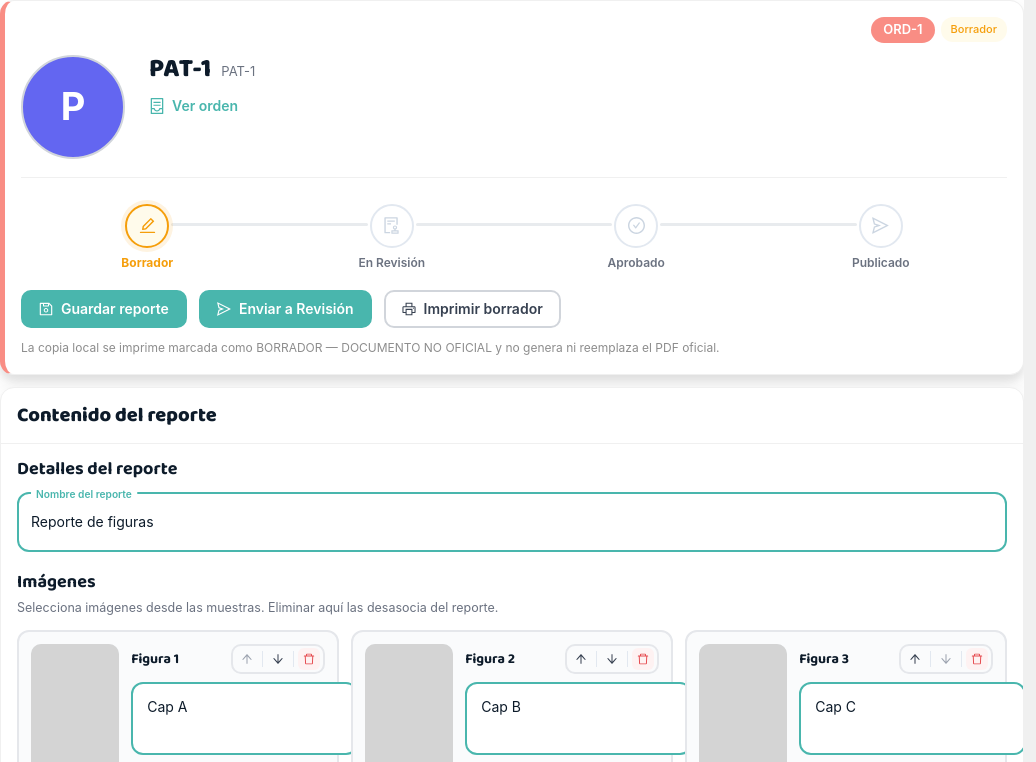
Test: ReportEditor — caption editing (#20) › keeps focus and the caret while typing, deleting and replacing in the middle
Step 1. Click the text box with placeholder "Nota para esta imagen" → (245, 718), box [145,694,344,742]
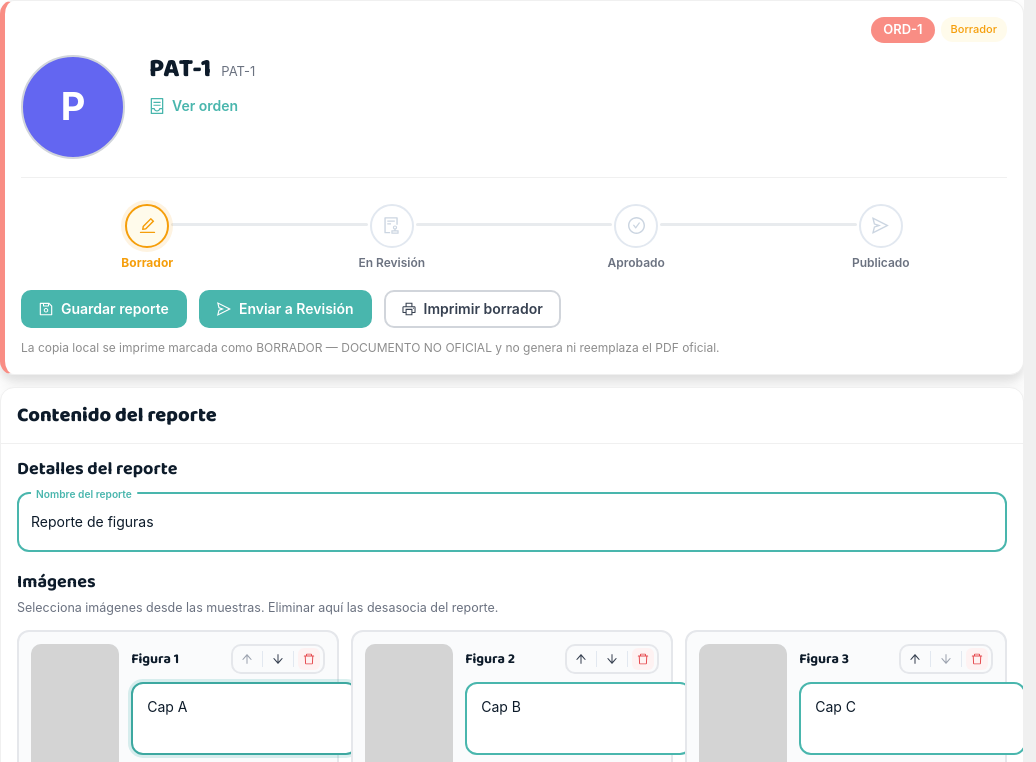
Step 2. Type keys "XY"
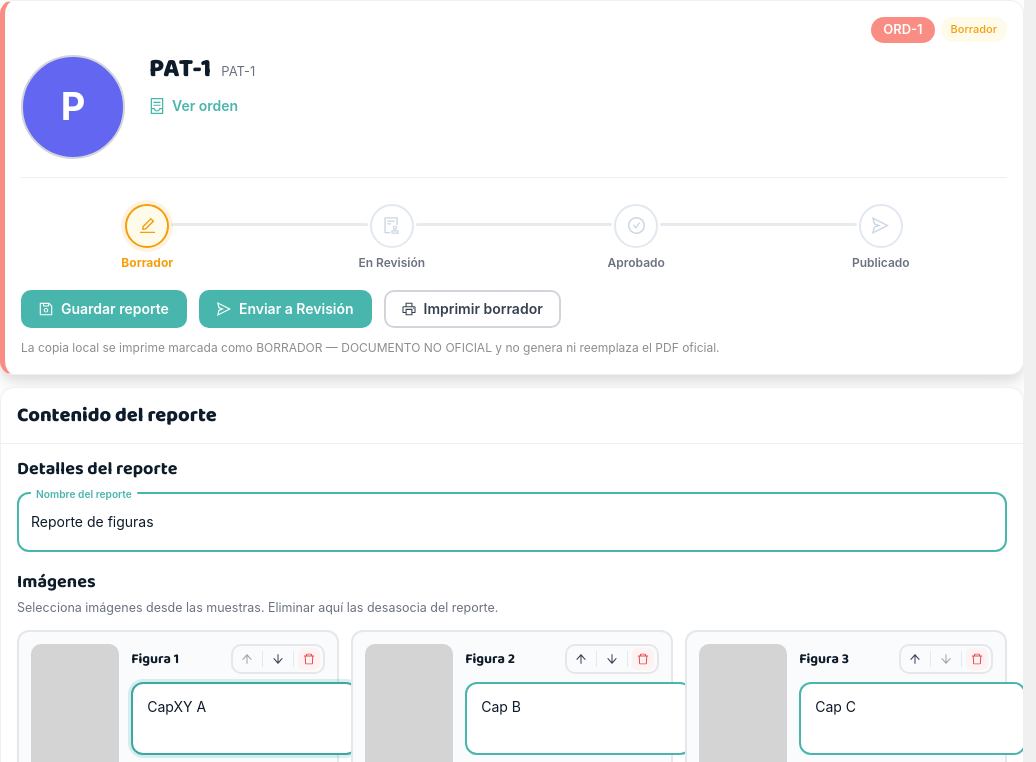
Expected: the text box with placeholder "Nota para esta imagen" holds "CapXY A", [145,694,344,742]
Step 3. Press Backspace
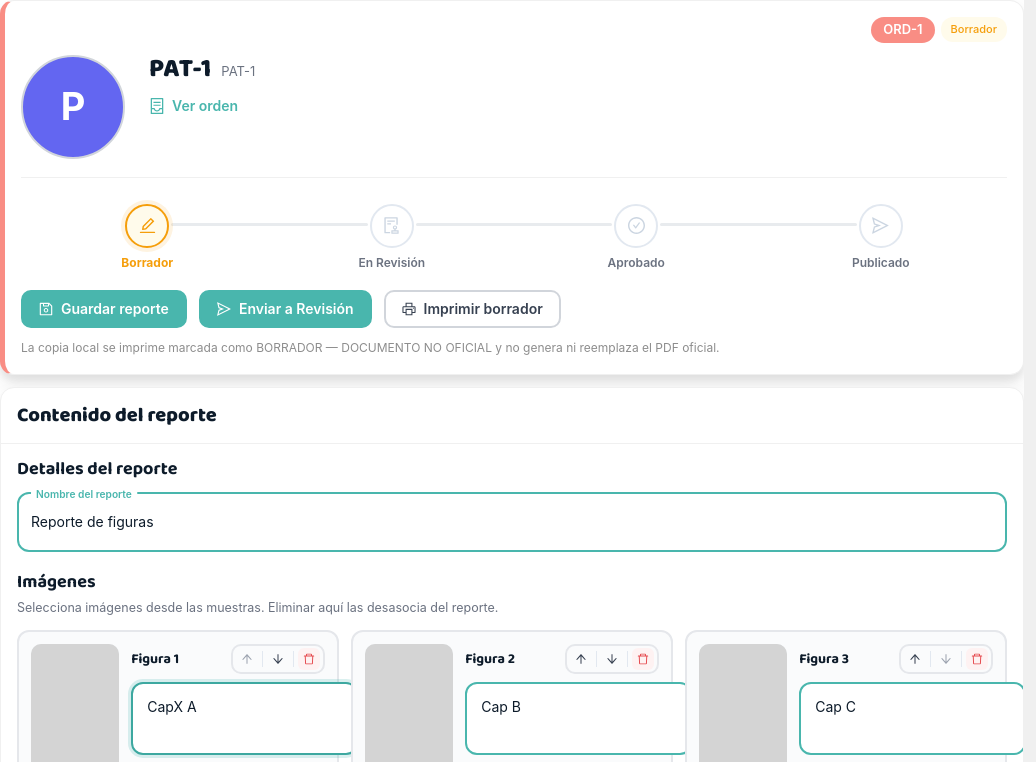
Expected: the text box with placeholder "Nota para esta imagen" holds "CapX A", [145,694,344,742]
Step 4. Press Delete
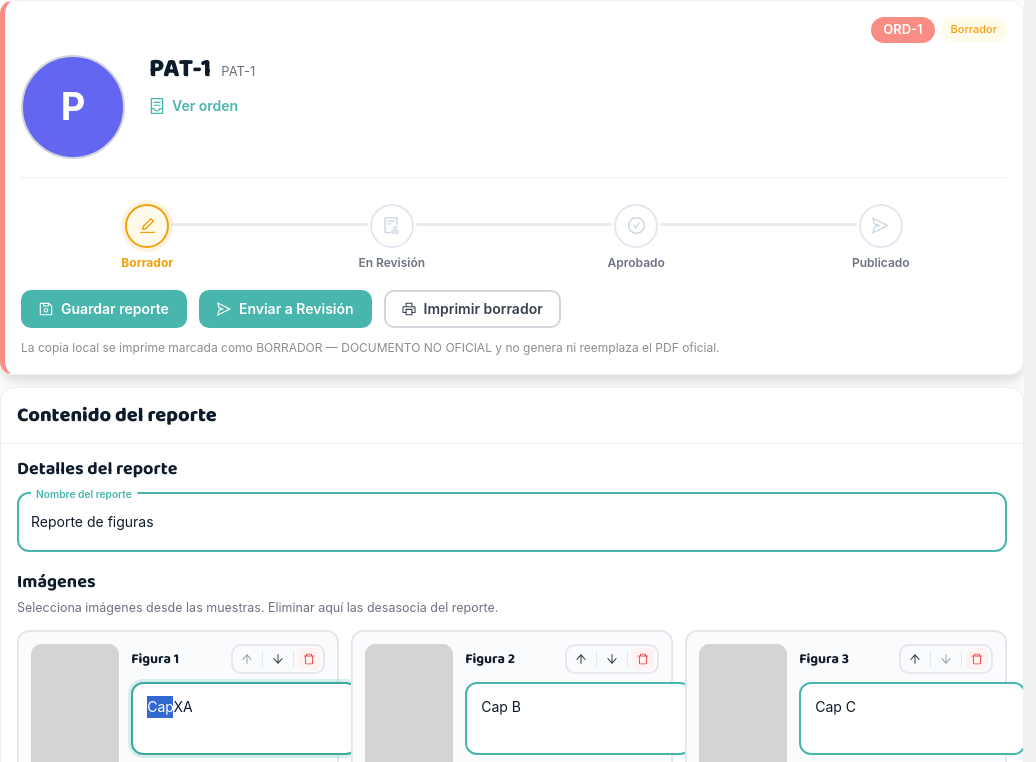
Expected: the text box with placeholder "Nota para esta imagen" holds "CapXA", [145,694,344,742]
Step 5. Type keys "ñá"
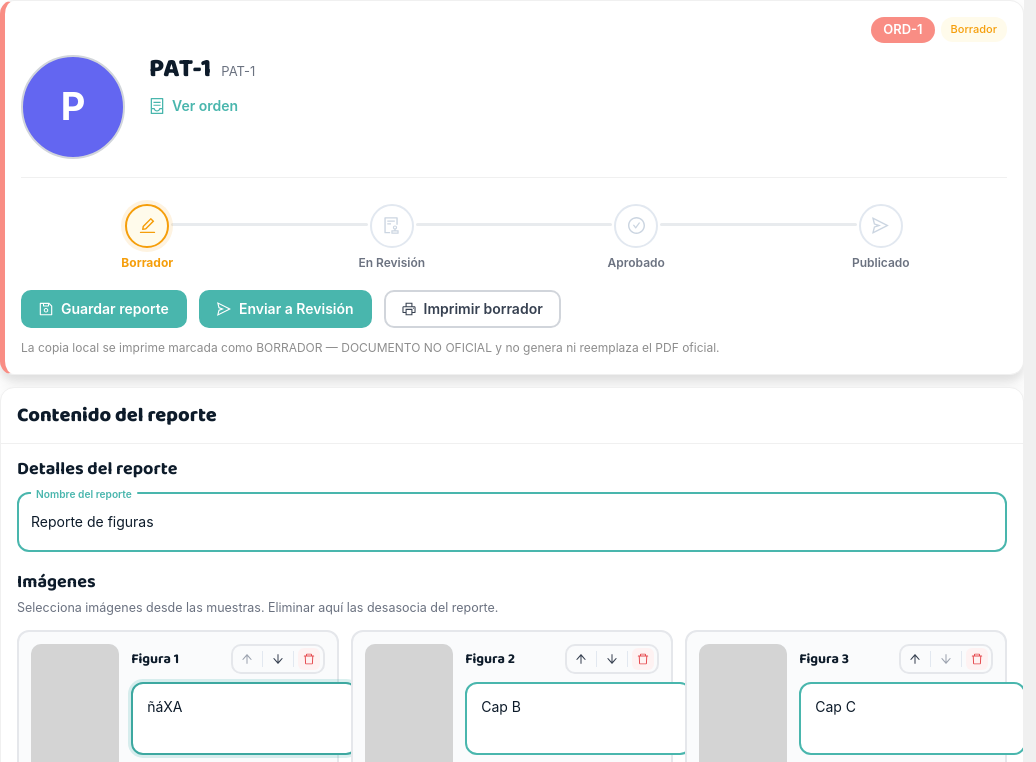
Expected: the text box with placeholder "Nota para esta imagen" holds "ñáXA", [145,694,344,742]
